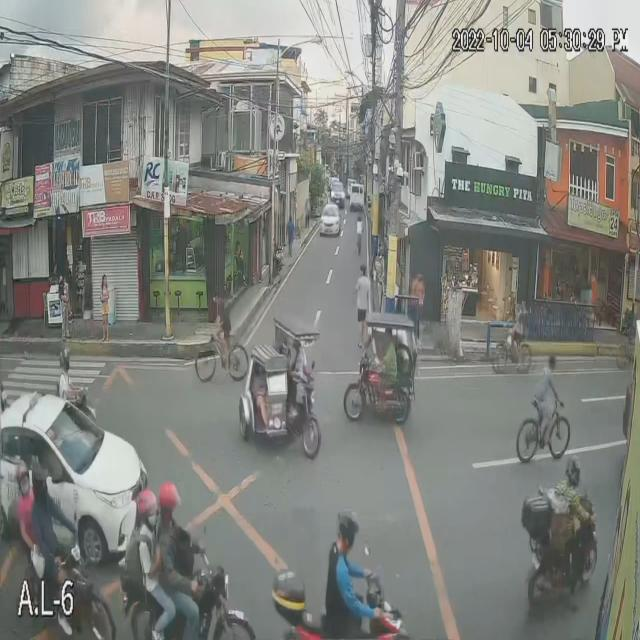Full-Faced: (134, 485, 160, 533), (337, 508, 362, 552), (162, 479, 180, 521), (562, 455, 582, 486)
Half-Faced: (30, 465, 48, 500), (16, 465, 32, 492)
Invalid: (545, 354, 559, 389)
